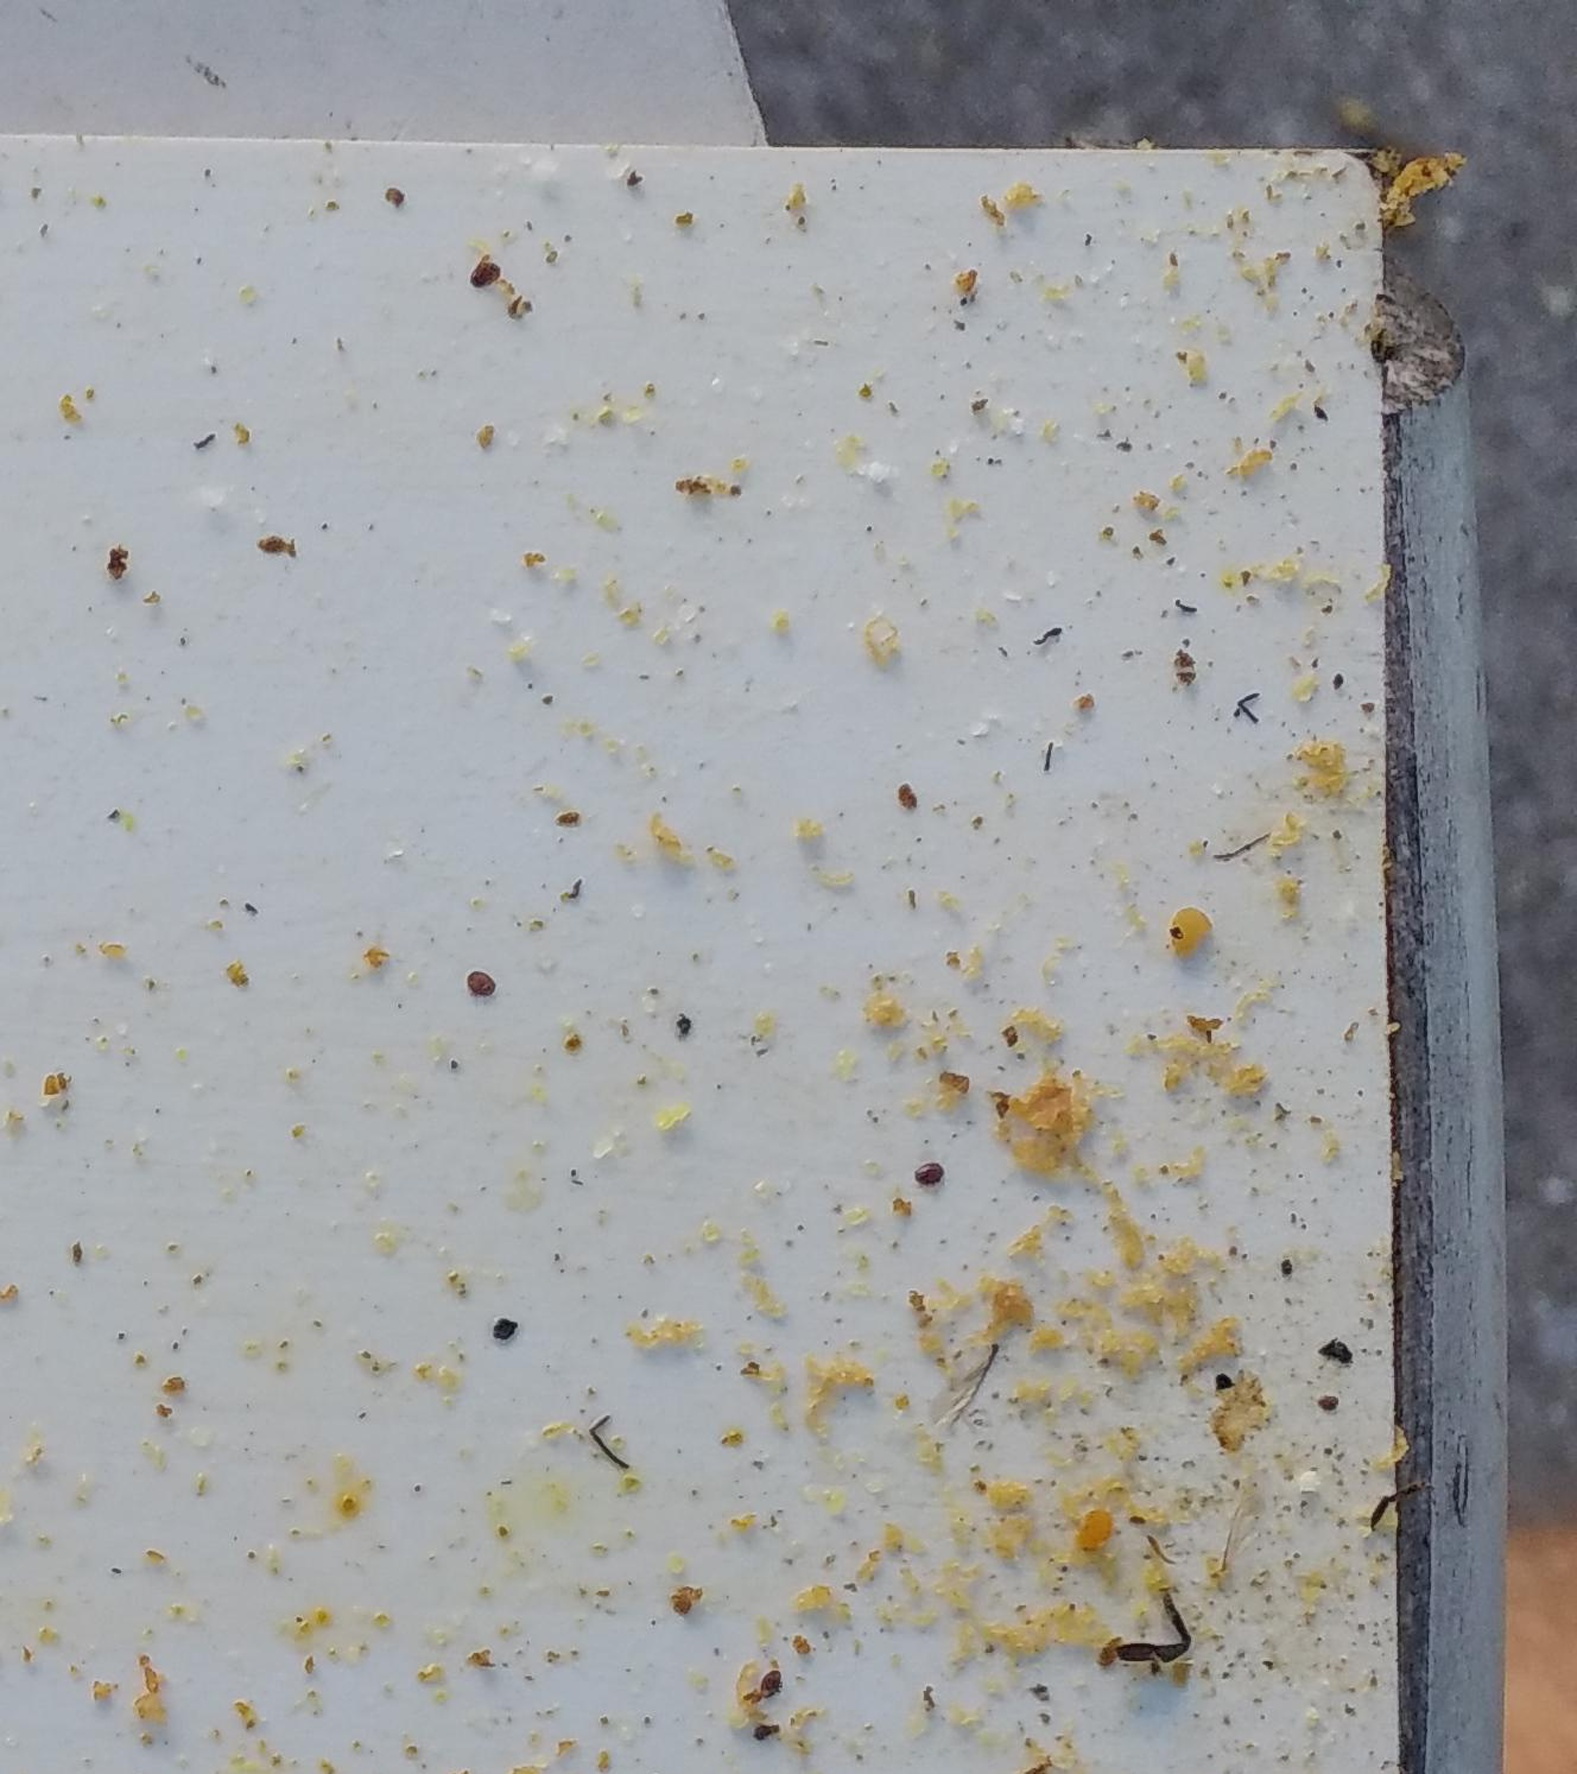Varroa: (752, 1669, 779, 1695), (470, 262, 498, 286), (469, 968, 492, 994), (930, 1169, 941, 1186)
